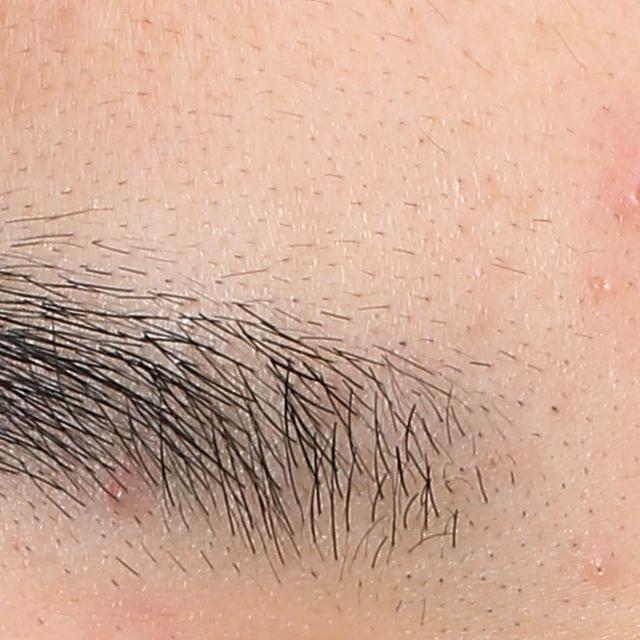papule: (108, 469, 139, 517), (583, 555, 617, 586)
